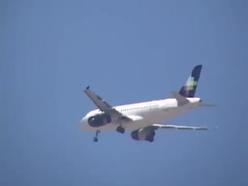aircraft: (79, 63, 216, 141)
